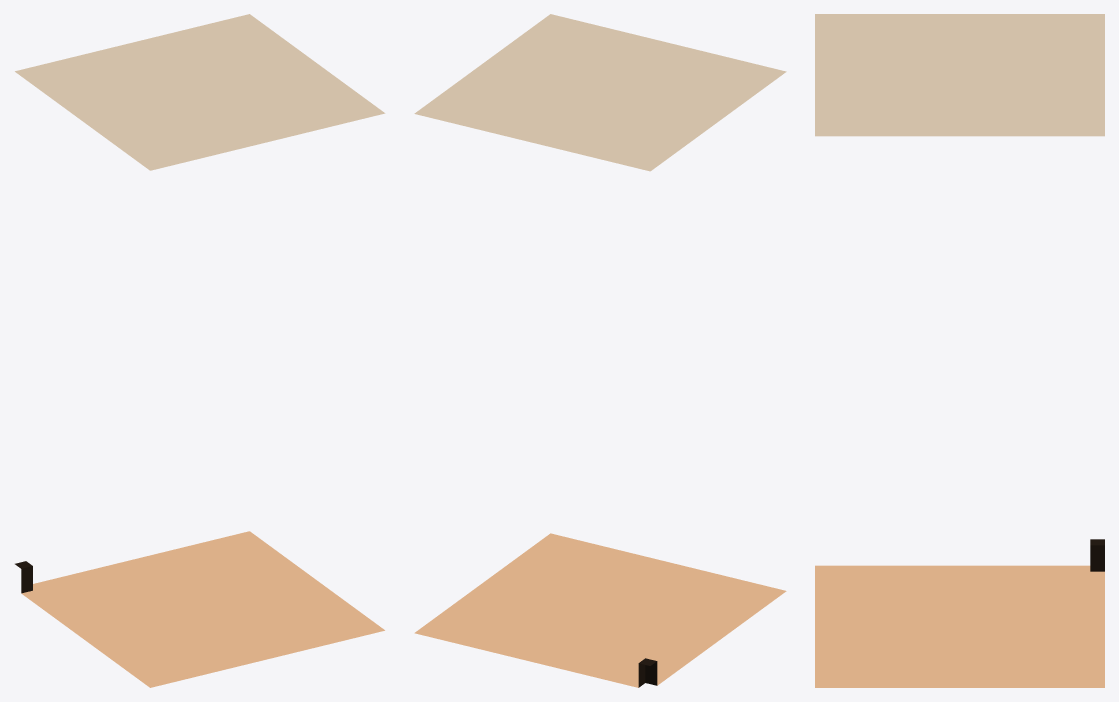
File: Coin_Exterieur_1x1.fbx
The picture shows the model from 3 angles, left to right: view 1: azimuth 30°, elevation 25°; view 2: azimuth 150°, elevation 25°; view 3: azimuth 270°, elevation 25°; orthographic projection. The views are drawn at different scales.
Parts seen in each view (by area): view 1: Coin_Exterieur_1x1; view 2: Coin_Exterieur_1x1; view 3: Coin_Exterieur_1x1.
Boxes of the visible parts, x1=… form: Coin_Exterieur_1x1: x1=15, y1=14, x2=385, y2=687; Coin_Exterieur_1x1: x1=414, y1=14, x2=786, y2=687; Coin_Exterieur_1x1: x1=815, y1=14, x2=1104, y2=687.
Bounding box in the file's own units: 1 × 2.1 × 1.
